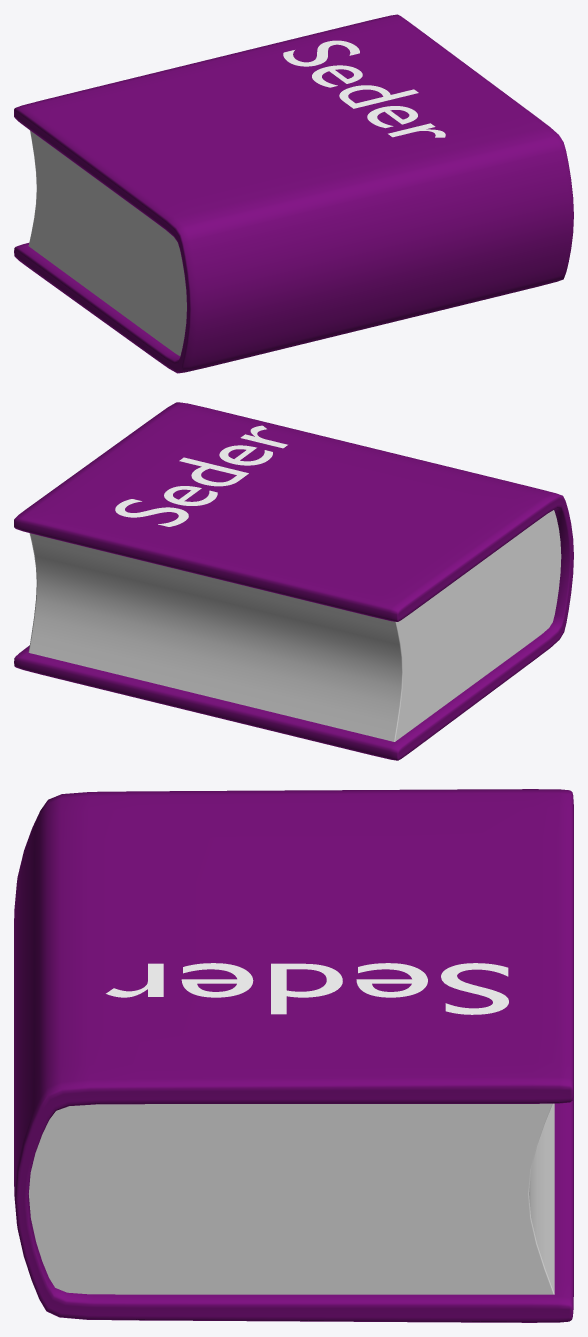
File: LibroVIOLETA.fbx
The picture shows the model from 3 angles, top to bottom: view 1: azimuth 30°, elevation 25°; view 2: azimuth 150°, elevation 25°; view 3: azimuth 270°, elevation 25°; orthographic projection. The views are drawn at different scales.
Visible parts, largest first — view 1: Libro.004; view 2: Libro.004; view 3: Libro.004.
Boxes of the visible parts, x1,y1,x2,y2 form: Libro.004: (14, 14, 573, 373); Libro.004: (14, 402, 573, 760); Libro.004: (14, 789, 573, 1322).
Size of the model in its own units: 50 by 20 by 40.
